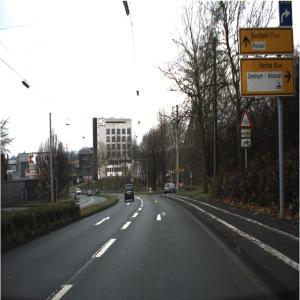CYCLES CROSSING: (239, 108, 254, 130)
